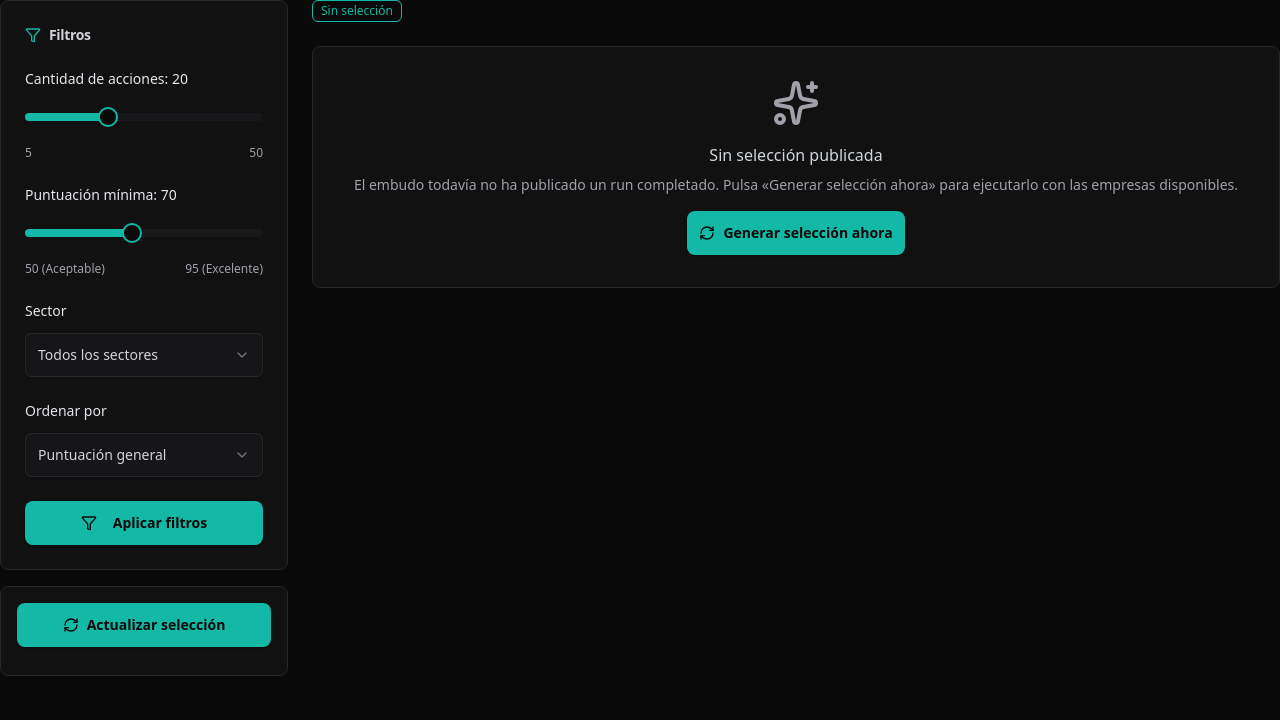
it: EnhancedProPicksContent: estados vacíos › si generar el run lanza una excepción muestra el mismo error y se puede reintentar
Click the button "Generar selección ahora".
click(796, 233)  # box [687,211,905,255]
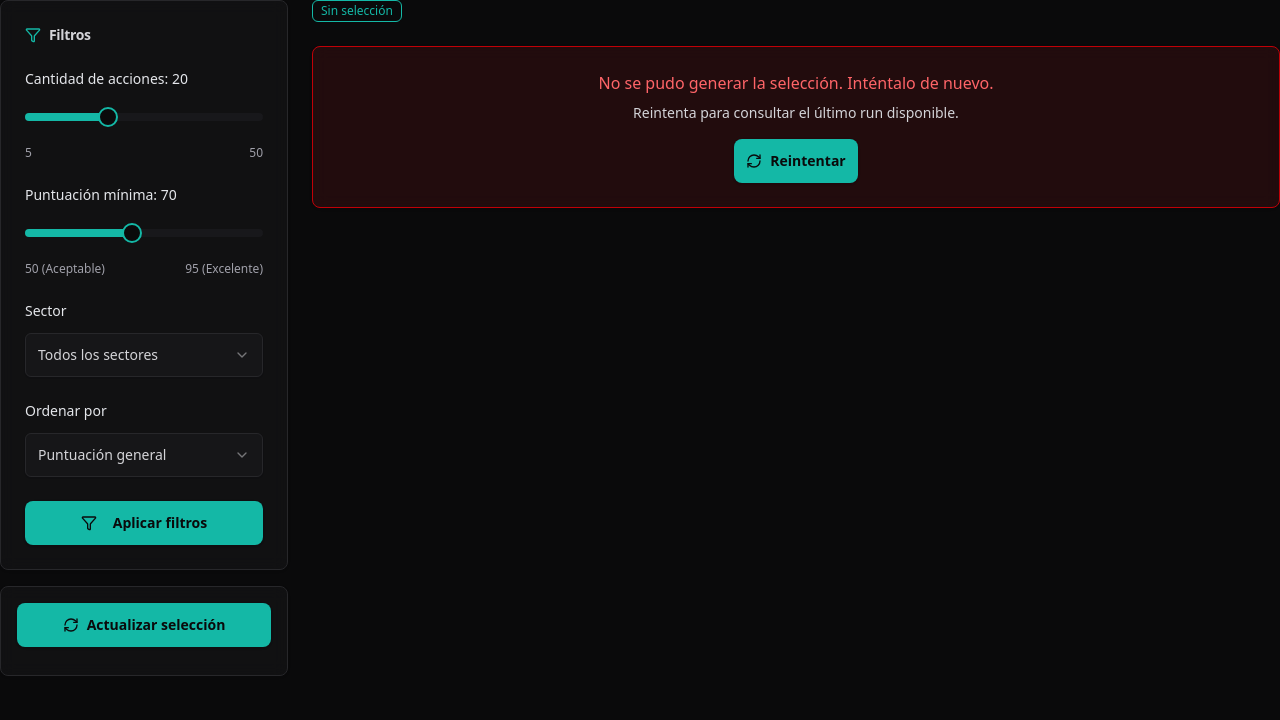
Check: the text "No se pudo generar la selección. Inténtalo de nuevo." is shown, box [598,72,994,94]
Click the button "Reintentar".
click(796, 161)  # box [734,139,858,183]
(page scrolled)
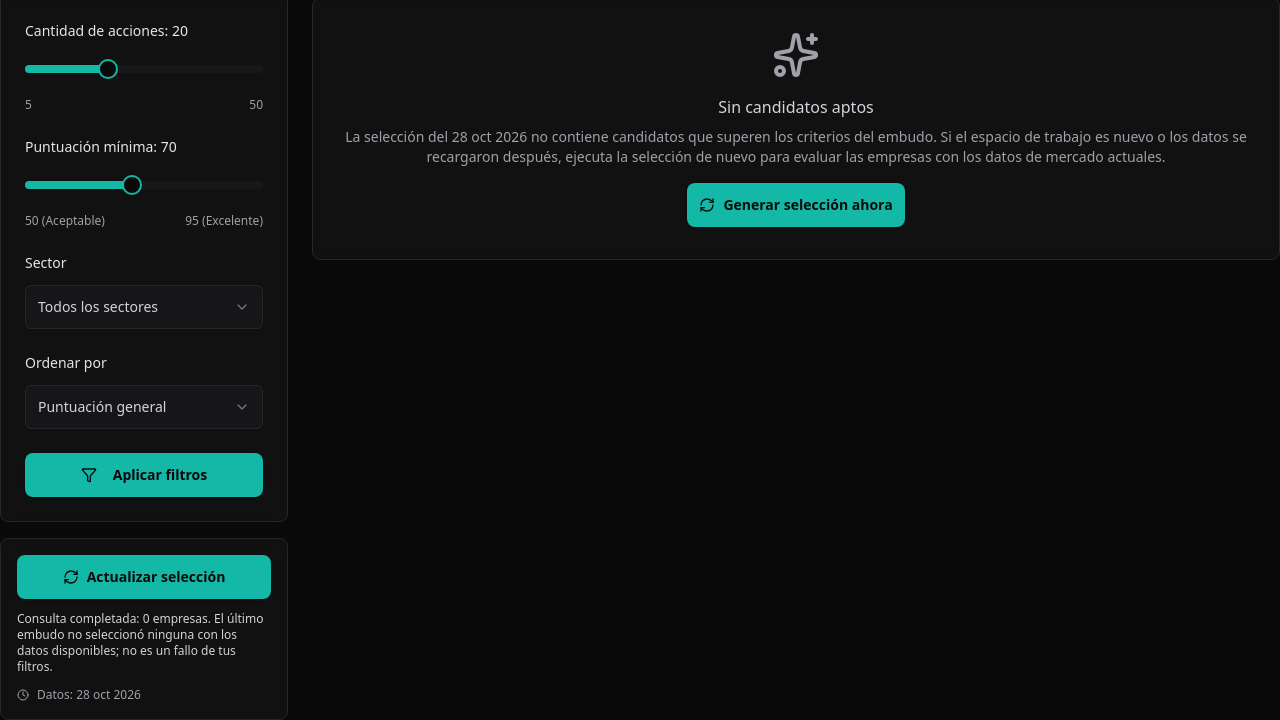
Check: the text "0 empresas. El último embudo no seleccionó ninguna" is shown, box [17,610,263,675]
